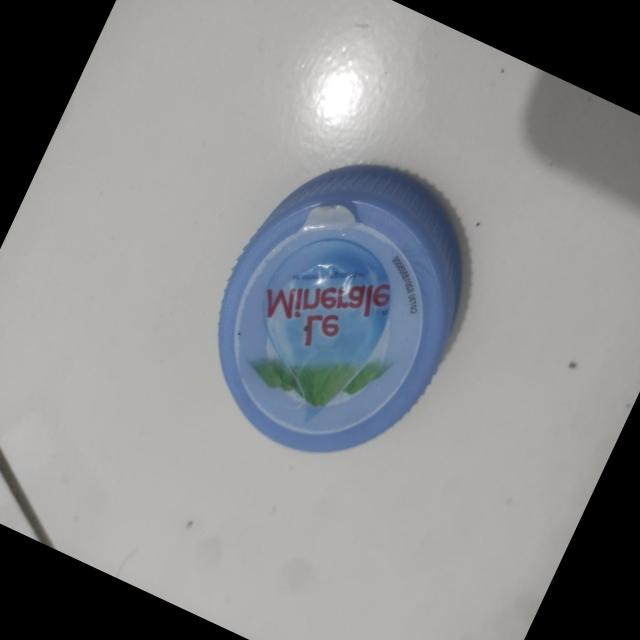TutupGalon: (170, 124, 507, 494)
